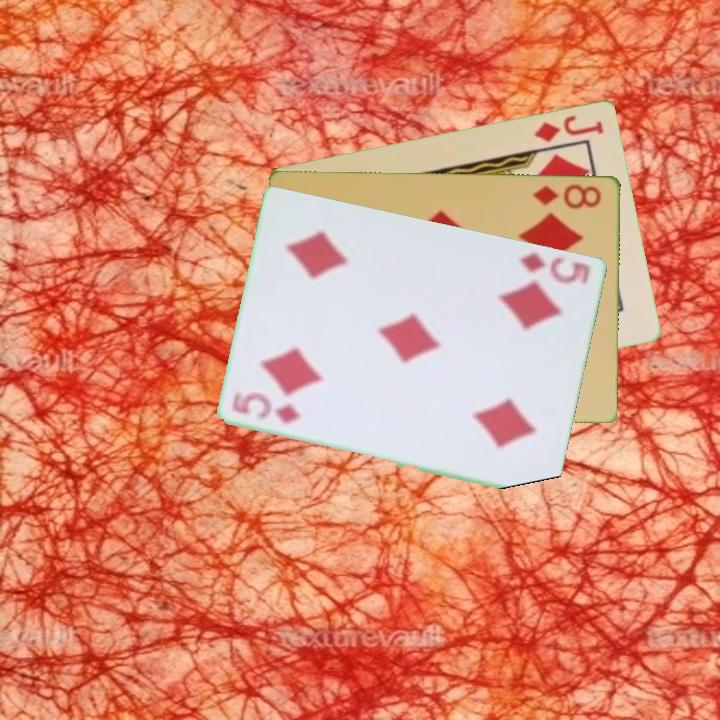5d: (517, 248, 594, 287), (229, 391, 304, 426)
8d: (530, 180, 604, 211)
Jd: (530, 111, 607, 145)
